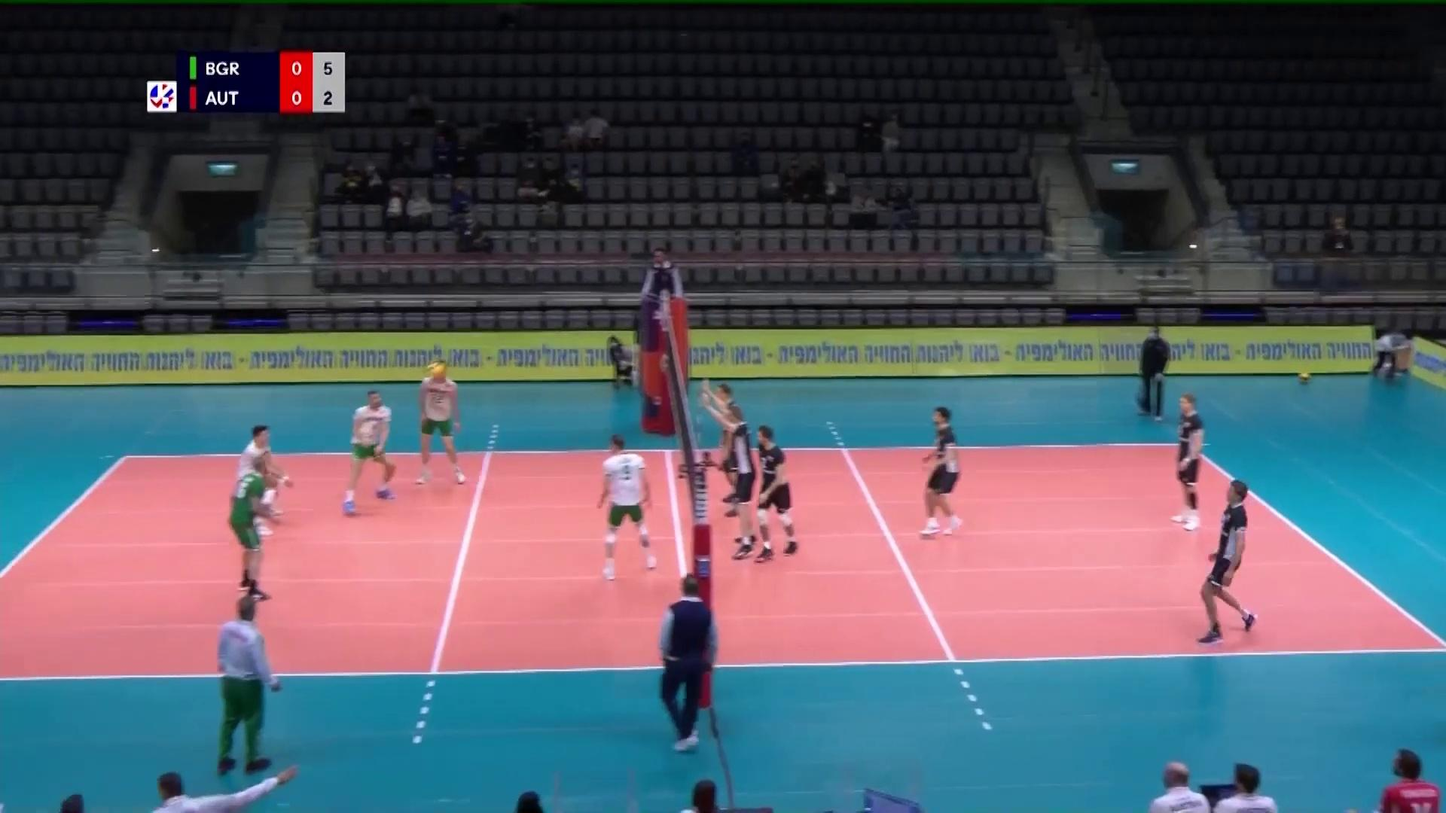ball: (429, 362, 447, 378)
